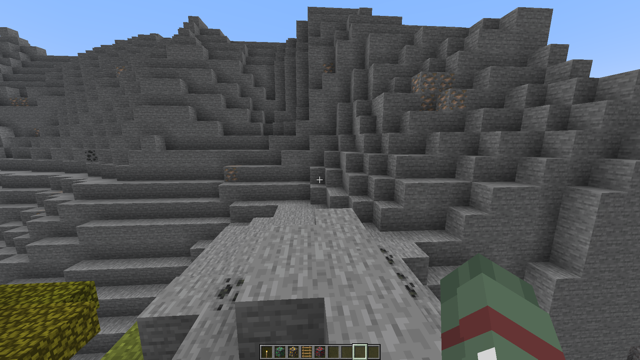coal: (376, 244, 416, 302), (216, 273, 245, 311), (82, 148, 98, 163)
iron: (410, 71, 468, 112), (222, 163, 239, 181), (6, 95, 29, 108), (112, 62, 128, 77), (320, 61, 335, 74), (31, 126, 42, 136)
